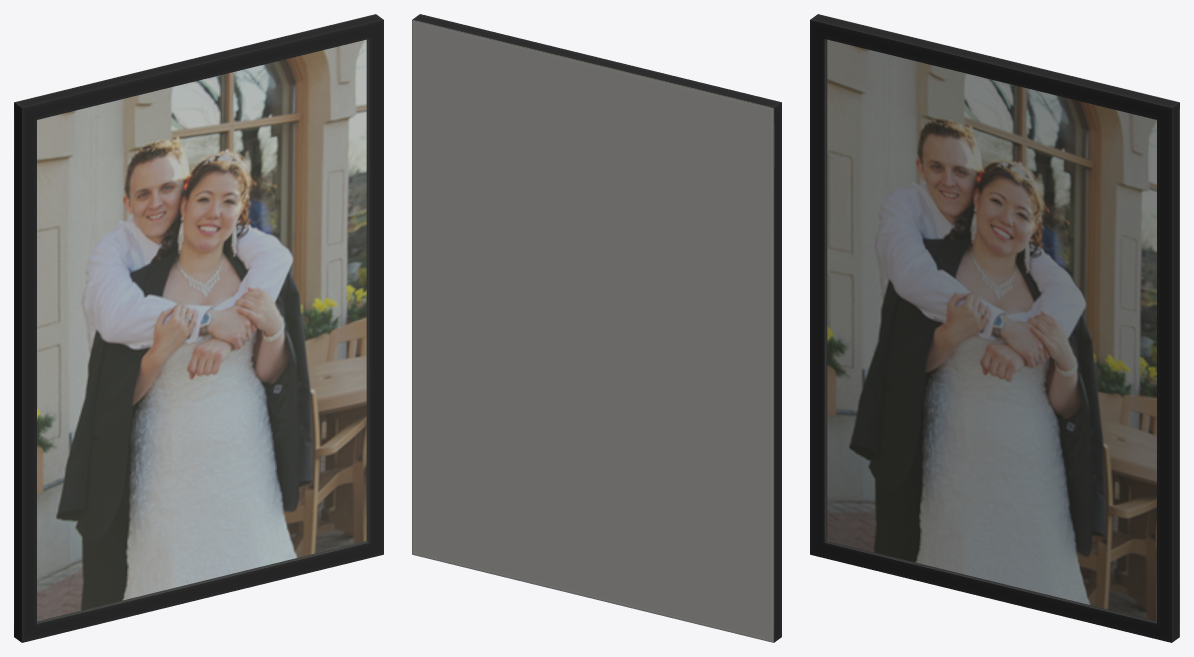
Rendered from wedding_photo.glb.
3 views of the same model, side by side, from view 1: azimuth 30°, elevation 25°; view 2: azimuth 150°, elevation 25°; view 3: azimuth 330°, elevation 25° (orthographic).
Visible parts, largest first — view 1: SM_picture_frame_large.001_10, SM_picture_frame_large_glass.001_11; view 2: SM_picture_frame_large.001_10; view 3: SM_picture_frame_large.001_10, SM_picture_frame_large_glass.001_11.
Part boxes in pixels (box(x1,y1,x2,y2)): SM_picture_frame_large.001_10: box(14, 14, 383, 642); SM_picture_frame_large_glass.001_11: box(37, 39, 368, 623); SM_picture_frame_large.001_10: box(412, 14, 781, 642); SM_picture_frame_large.001_10: box(810, 14, 1179, 642); SM_picture_frame_large_glass.001_11: box(825, 39, 1156, 623).
Size of the model in its own units: 0.8309 by 1.17 by 0.0321.
2 materials, 2 textured.
